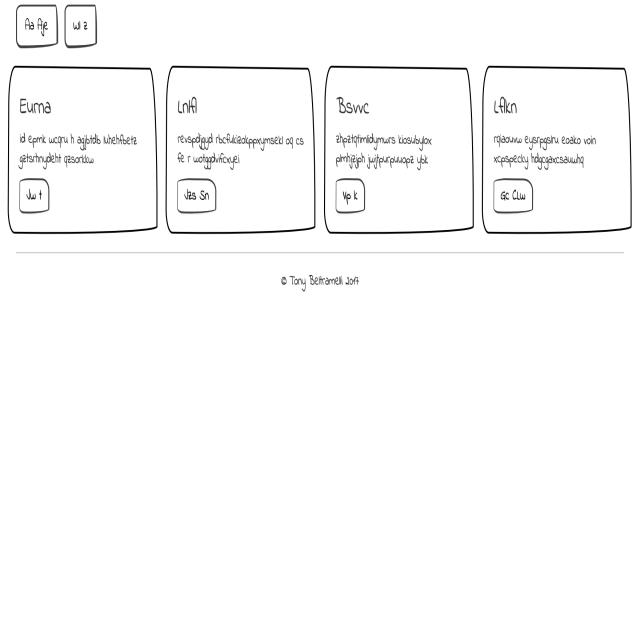Button: (492, 175, 538, 218), (173, 177, 218, 214), (16, 184, 56, 213), (338, 181, 367, 218)
Card: (158, 62, 312, 238), (328, 67, 475, 236), (482, 68, 632, 232), (15, 70, 156, 230)
Footer: (0, 250, 640, 640)
Heading 6: (337, 93, 379, 124), (489, 92, 531, 122), (18, 88, 65, 114), (171, 90, 213, 118)
Navigation Bar: (12, 6, 106, 51)
Paragraph: (18, 126, 142, 173), (334, 119, 440, 172), (175, 128, 308, 170), (488, 129, 608, 172)
